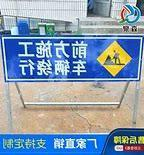sign: (2, 36, 143, 80)
